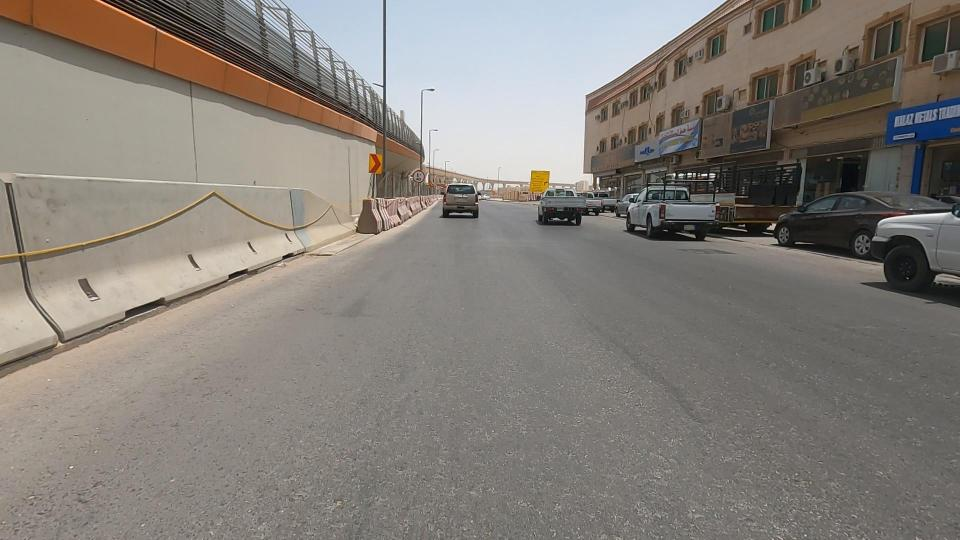CONSTRUCTION_ROAD: (307, 146, 472, 253), (469, 161, 555, 213)
